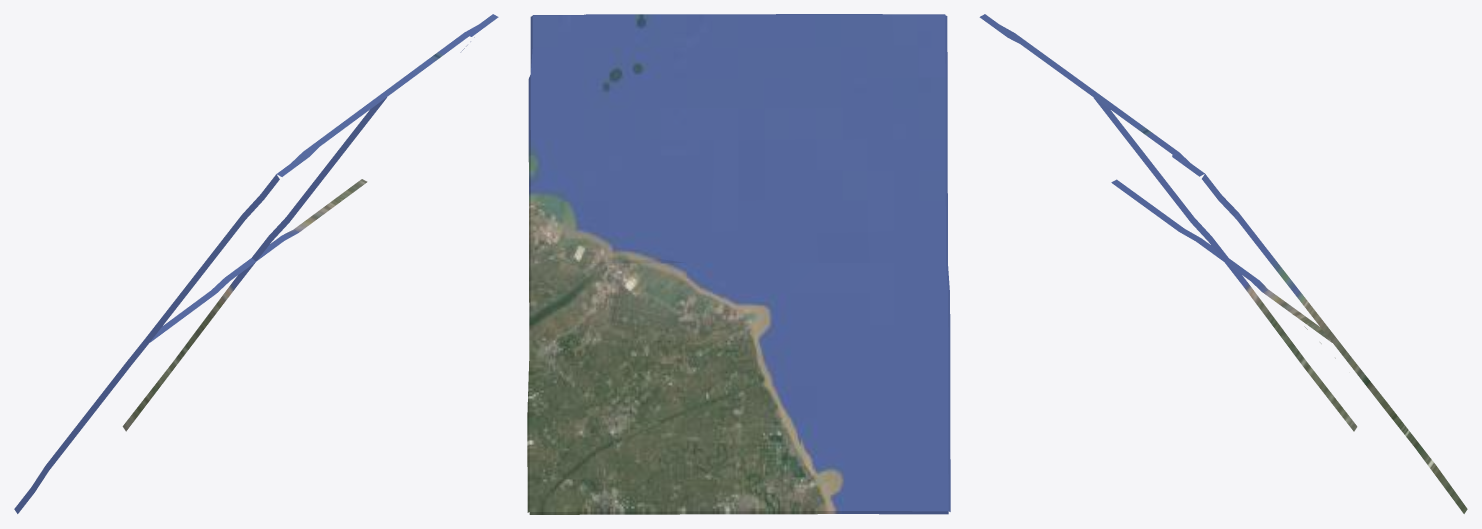
3 views of the same model, side by side, from view 1: azimuth 30°, elevation 25°; view 2: azimuth 150°, elevation 25°; view 3: azimuth 270°, elevation 25° (orthographic). The views are drawn at different scales.
Bounding box in the file's own units: 157762 × 131263 × 143773.
1 material, 1 textured.
